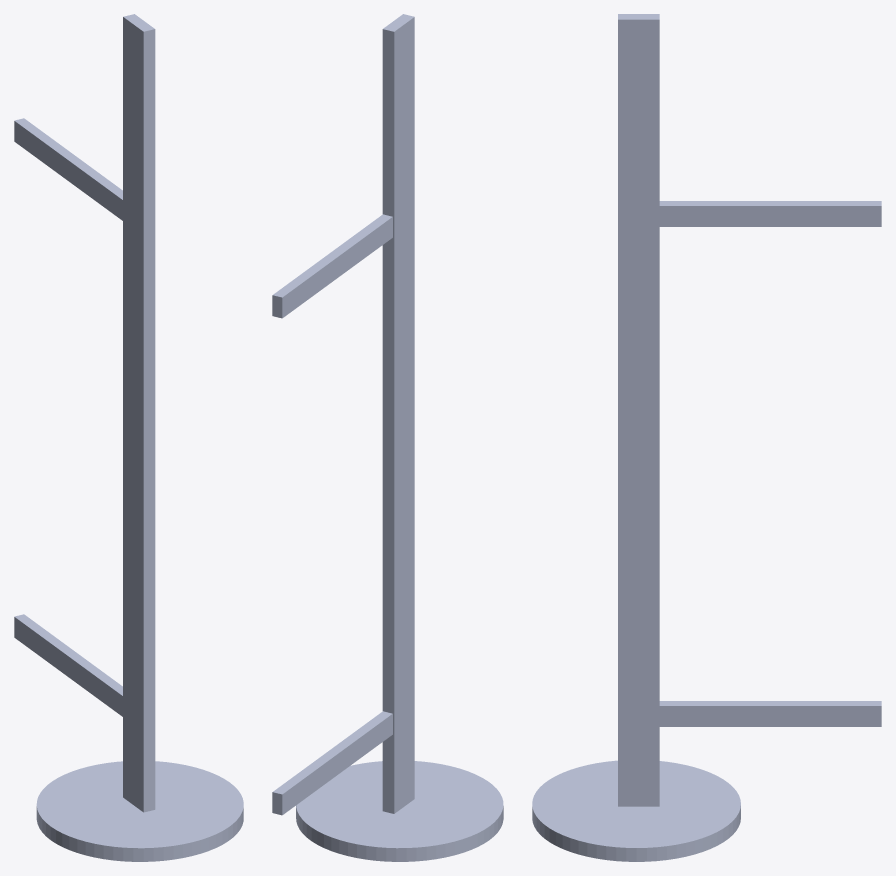
Rendered from Shtativ.fbx.
3 renders of one model, left to right at view 1: azimuth 30°, elevation 25°; view 2: azimuth 150°, elevation 25°; view 3: azimuth 270°, elevation 25°, orthographic.
Visible parts, largest first — view 1: Куб, Цилиндр, Куб.001, Куб.002; view 2: Куб, Цилиндр, Куб.001, Куб.002; view 3: Куб, Цилиндр, Куб.001, Куб.002.
Part boxes in pixels (x1,y1,x2,y2): Куб: [123, 14, 155, 812]; Цилиндр: [36, 761, 243, 861]; Куб.001: [14, 614, 122, 716]; Куб.002: [14, 118, 122, 220]; Куб: [382, 14, 414, 813]; Цилиндр: [296, 761, 503, 861]; Куб.001: [272, 711, 392, 815]; Куб.002: [272, 214, 392, 318]; Куб: [618, 14, 659, 806]; Цилиндр: [532, 760, 740, 861]; Куб.001: [659, 701, 881, 726]; Куб.002: [659, 201, 881, 226].
Bounding box in the file's own units: 27.22 × 115 × 45.57.
